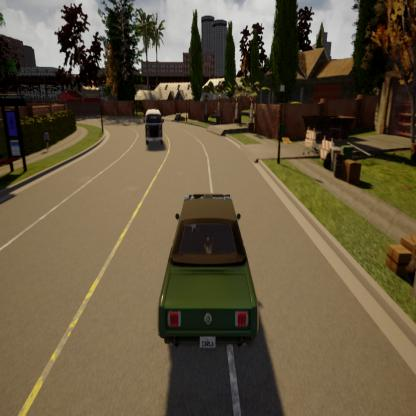Cars: (159, 194, 258, 351), (144, 108, 164, 152)
Pedestrian: (42, 127, 50, 150)
